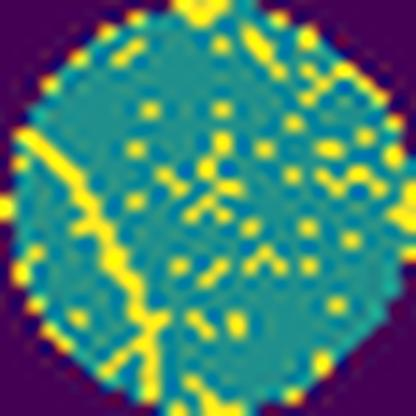Scratch: (14, 121, 174, 405)
